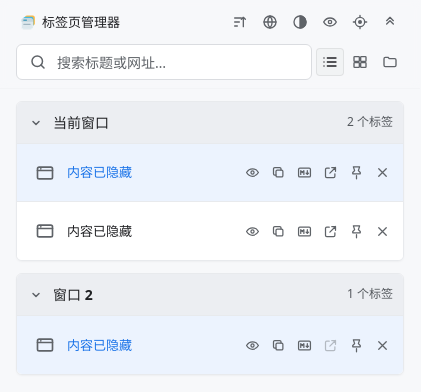
Test: App integration › runs activate and close operations, sanitizes failures, refreshes after rejection, and clears messages on success
This screenshot has width=421, height=392.
Expected: the number of list items with class "tab-row" is 3, [17, 144, 403, 202]; [17, 202, 403, 260]; [17, 316, 403, 374]
Click the button with aria-label "切换到隐藏的标签页" at (133, 172), box [27, 146, 239, 199]
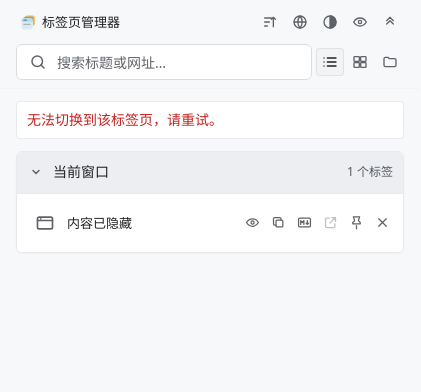
Expected: the message reads "无法切换到该标签页，请重试。", [27, 110, 223, 129]
Click the button with aria-label "切换到隐藏的标签页" at (133, 223), box [27, 196, 239, 250]
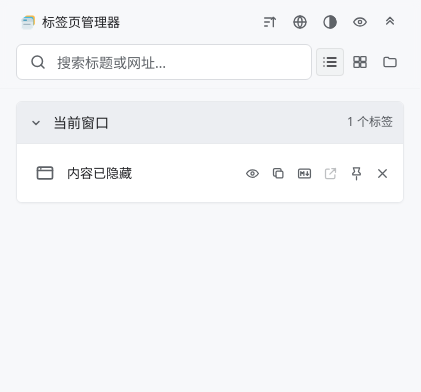
Expected: the text "无法切换到该标签页，请重试。" is gone
Click the button named "显示此标签信息" at (252, 173), box [239, 160, 265, 186]
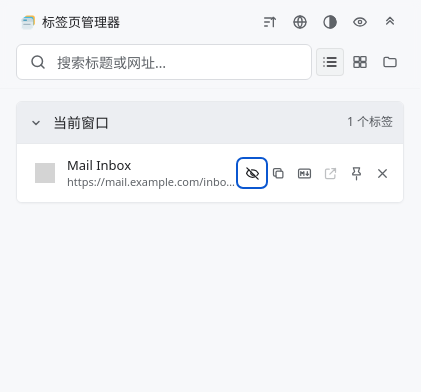
Expected: the text "Mail Inbox" is shown, [67, 156, 131, 174]
Click the button named "关闭标签页" at (382, 173), box [369, 160, 395, 186]
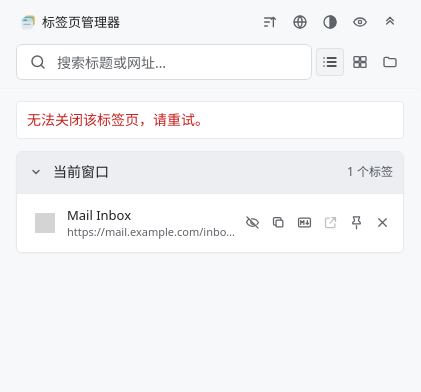
Expected: the message reads "无法关闭该标签页，请重试。", [27, 110, 209, 129]
Click the button named "关闭标签页" at (382, 223), box [369, 210, 395, 236]
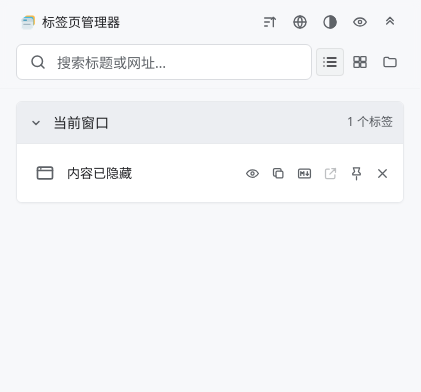
Expected: the button "Mail Inbox" is gone
Expected: the text "无法关闭该标签页，请重试。" is gone
